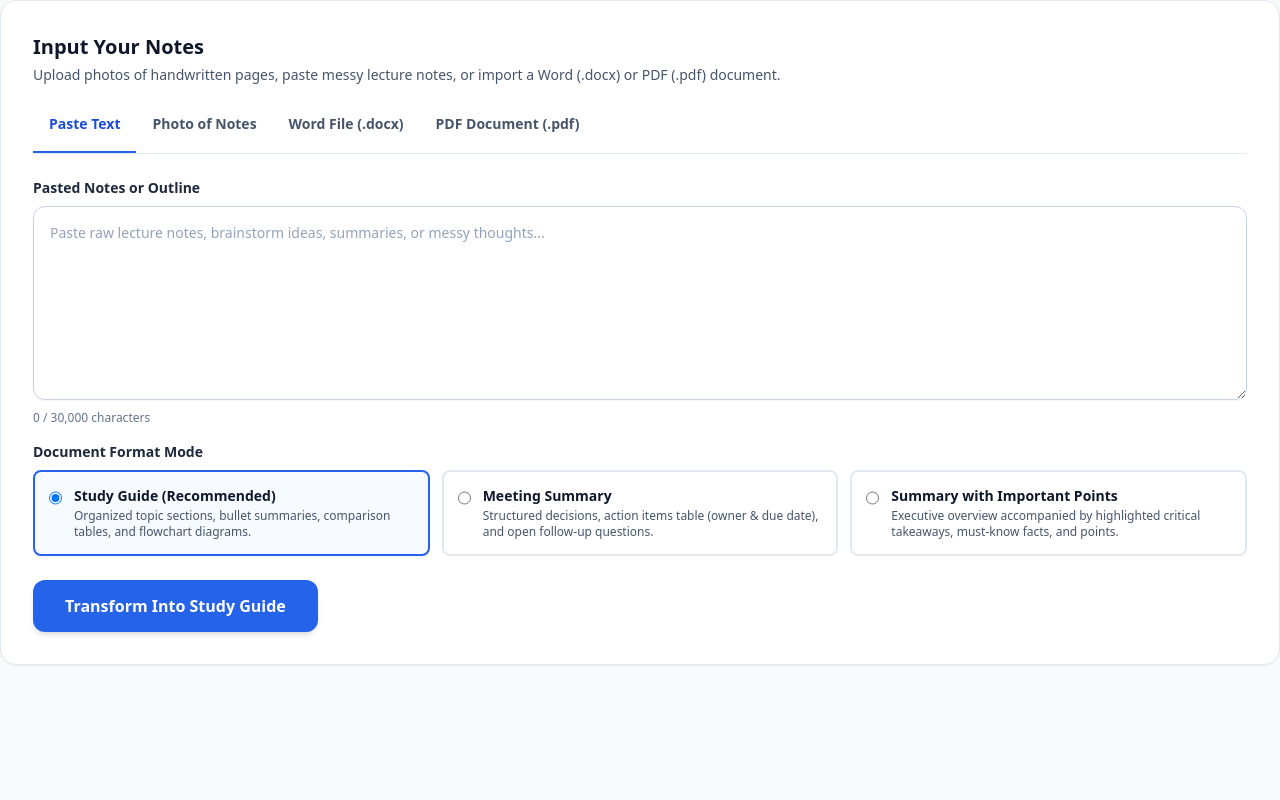
it: InputPanel Component › shows an error when submitting empty input
Click the button "Transform Into Study Guide": (175, 606) top-left (33, 580), bottom-right (318, 632)
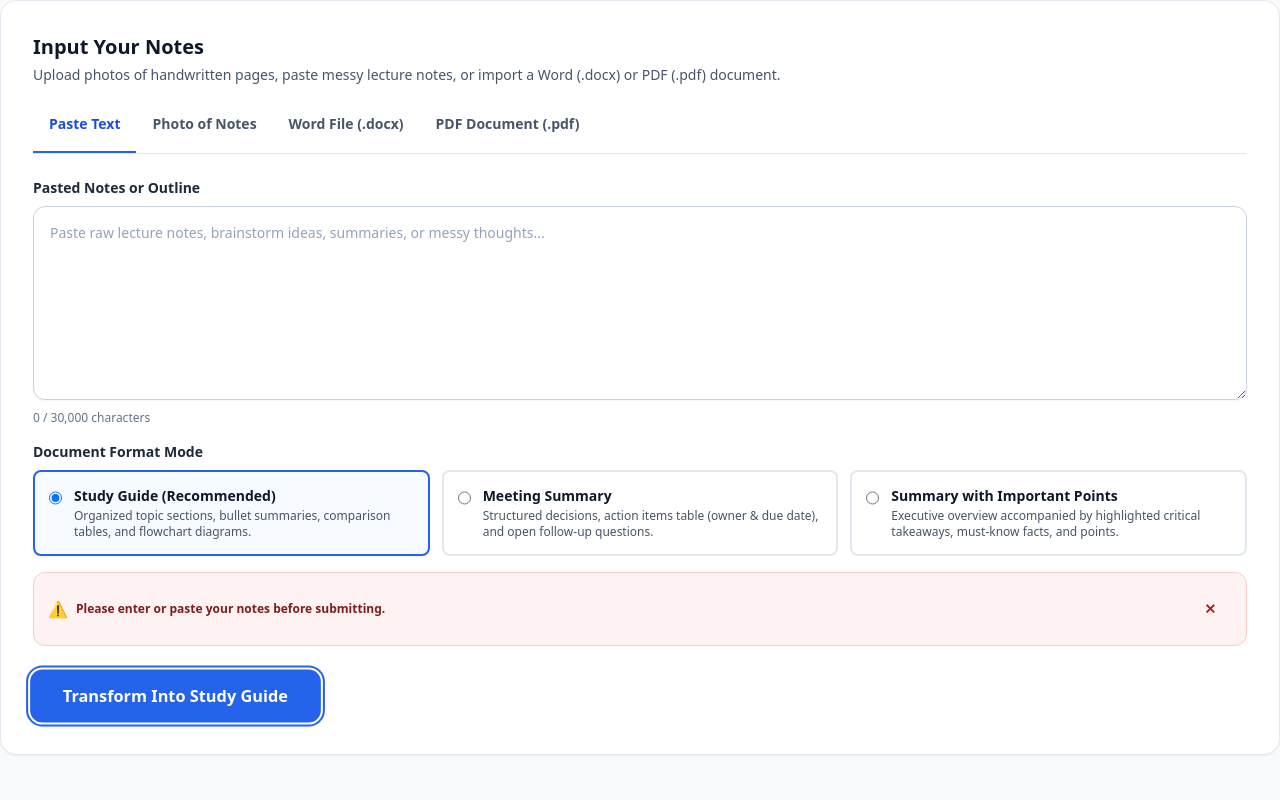
Result: the message shows "Please enter or paste your notes" at top-left (76, 600), bottom-right (385, 617)
